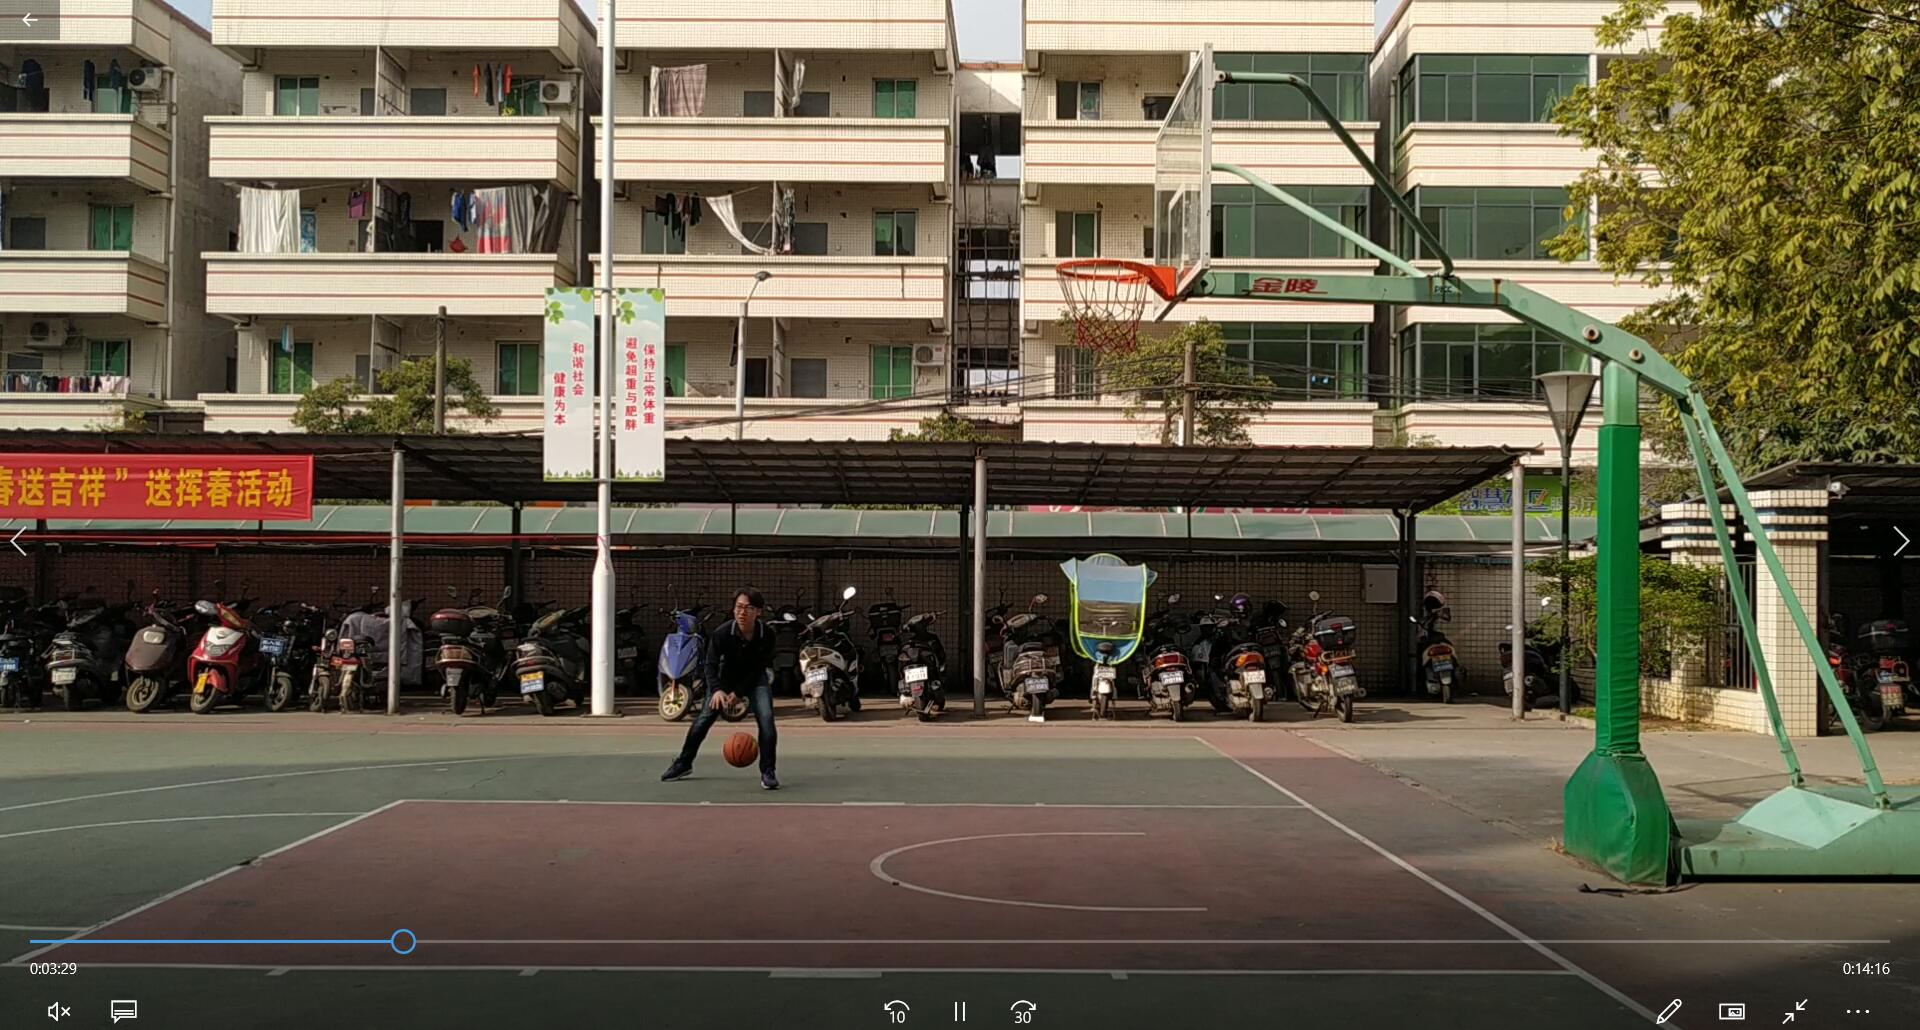basketball: (721, 726, 770, 770)
